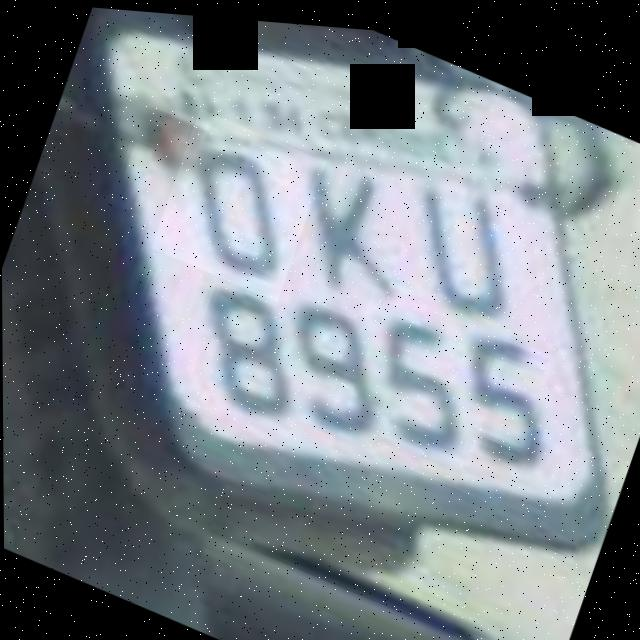5: (413, 284, 602, 484), (330, 274, 511, 461)
8: (150, 245, 344, 447)
9: (240, 252, 425, 447)
O: (150, 102, 326, 300)
U: (362, 129, 557, 335)
X: (255, 115, 438, 316)
